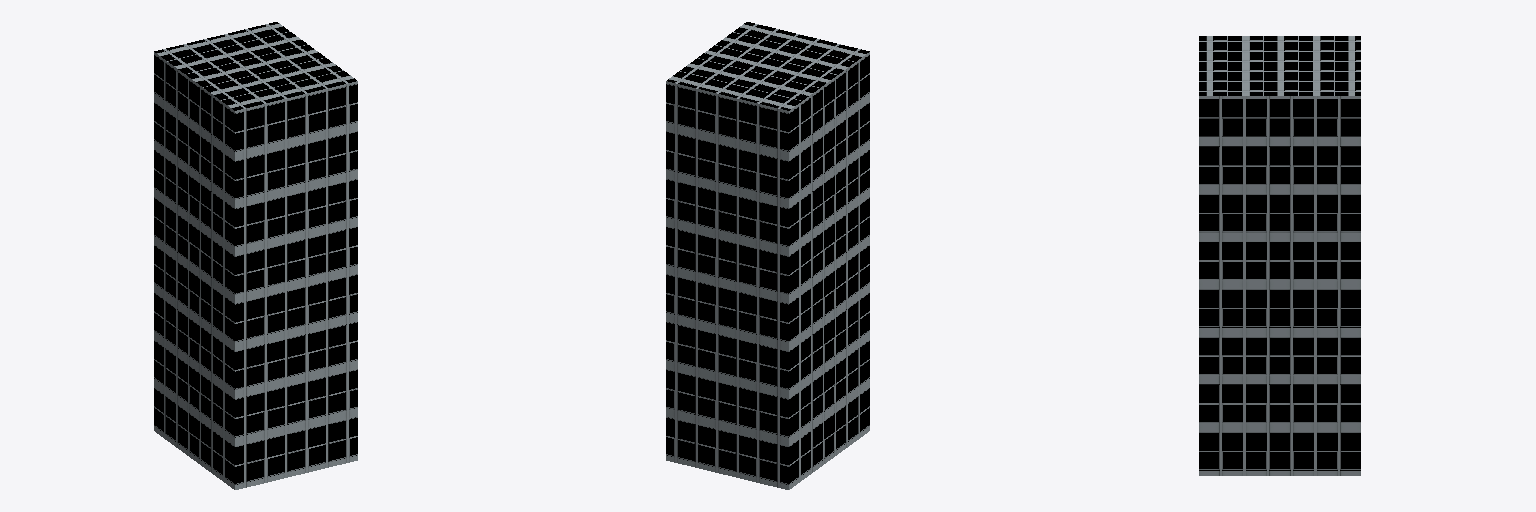
3 views of the same model, side by side, from view 1: azimuth 30°, elevation 25°; view 2: azimuth 150°, elevation 25°; view 3: azimuth 270°, elevation 25° (orthographic).
Parts seen in each view (by area): view 1: Plane; view 2: Plane; view 3: Plane.
Boxes of the visible parts, <box> form: Plane: <box>154,22,357,489</box>; Plane: <box>666,22,869,489</box>; Plane: <box>1199,36,1360,475</box>.
Bounding box in the file's own units: 1.72 × 5.06 × 1.97.
1 materials, 1 textured.